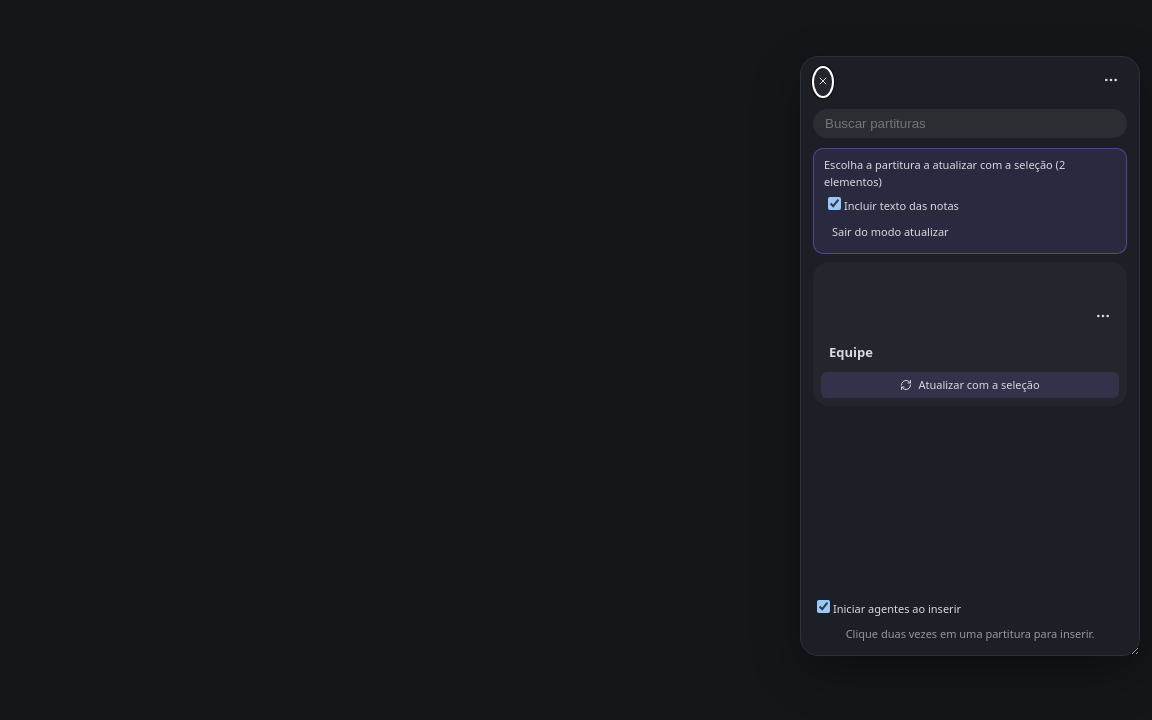
Test: o modo é anunciado, o cartão tem o botão próprio, e ele mostra o que muda antes de gravar
The image size is (1152, 720).
Later steps or results of the test are not shown.
Check: the text "2 elementos" is shown, box x1=824 y1=157 x2=1065 y2=189
Click the button "Atualizar com a seleção" at (970, 385), box x1=821 y1=372 x2=1119 y2=398
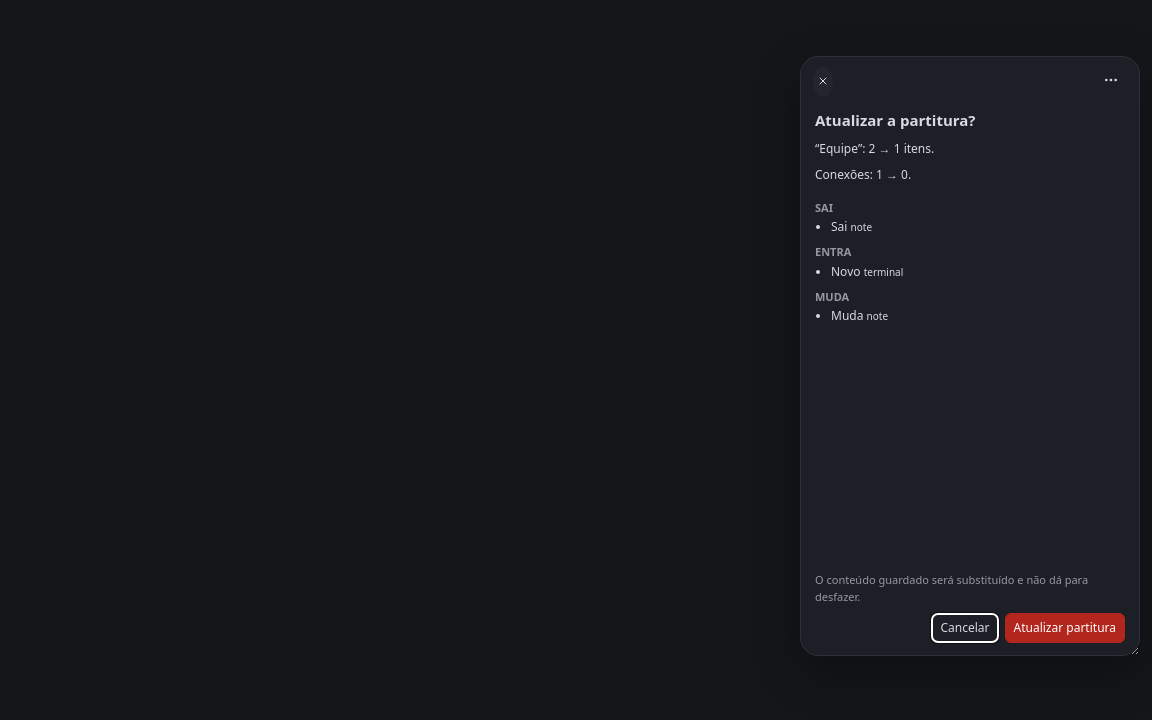
Check: the dialog shows "Equipe", box x1=815 y1=140 x2=934 y2=157
Check: the dialog shows "2 → 1", box x1=815 y1=140 x2=934 y2=157
Check: the dialog shows "Sai", box x1=815 y1=200 x2=833 y2=215
Click the button "Cancelar" at (965, 628), box x1=932 y1=613 x2=998 y2=643
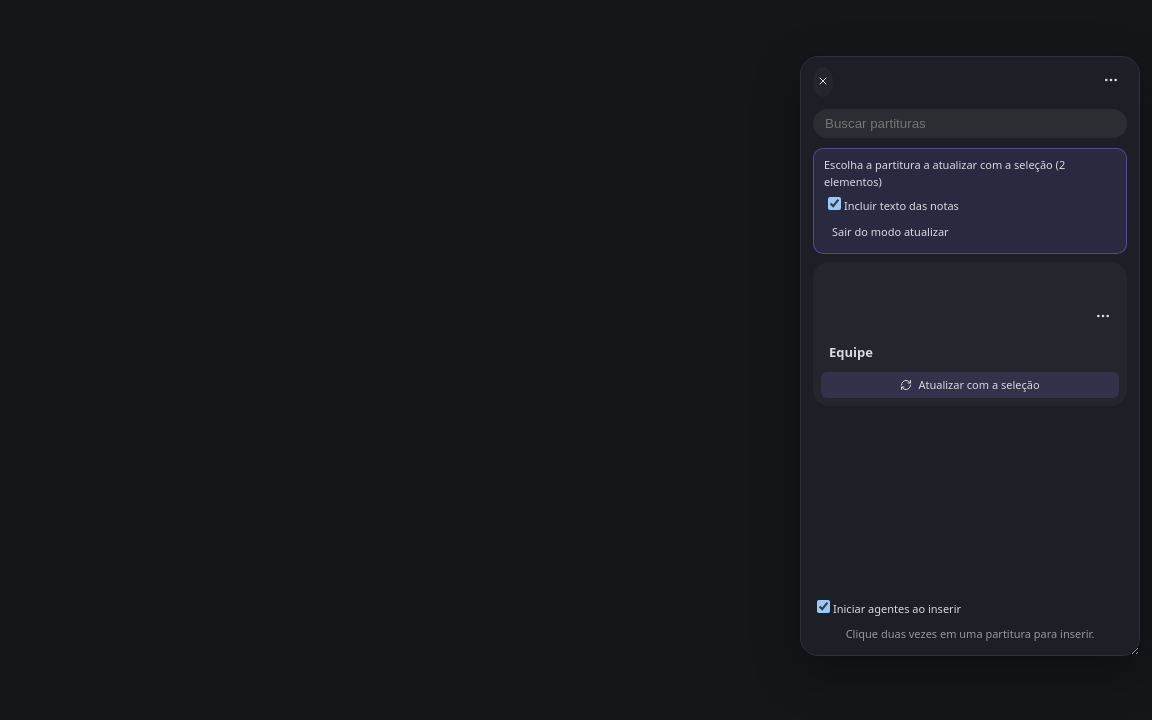
Click the button "Atualizar com a seleção" at (970, 385), box x1=821 y1=372 x2=1119 y2=398
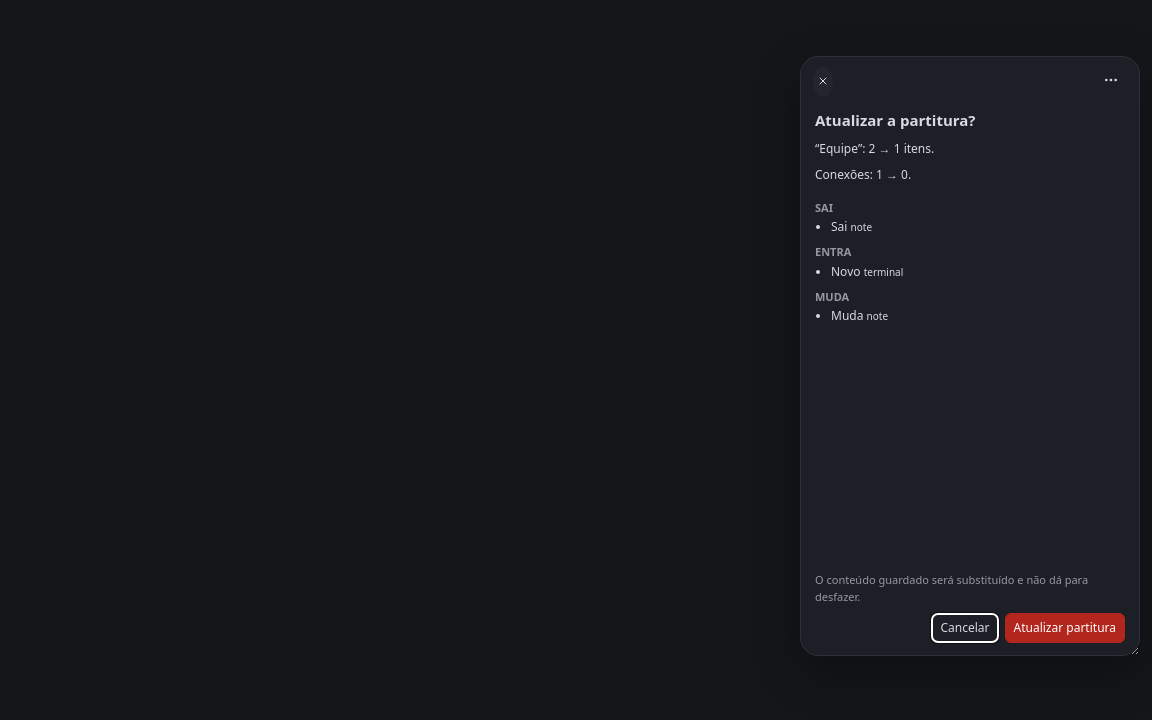
Check: the button "Atualizar partitura" is shown, box x1=1004 y1=613 x2=1125 y2=643
